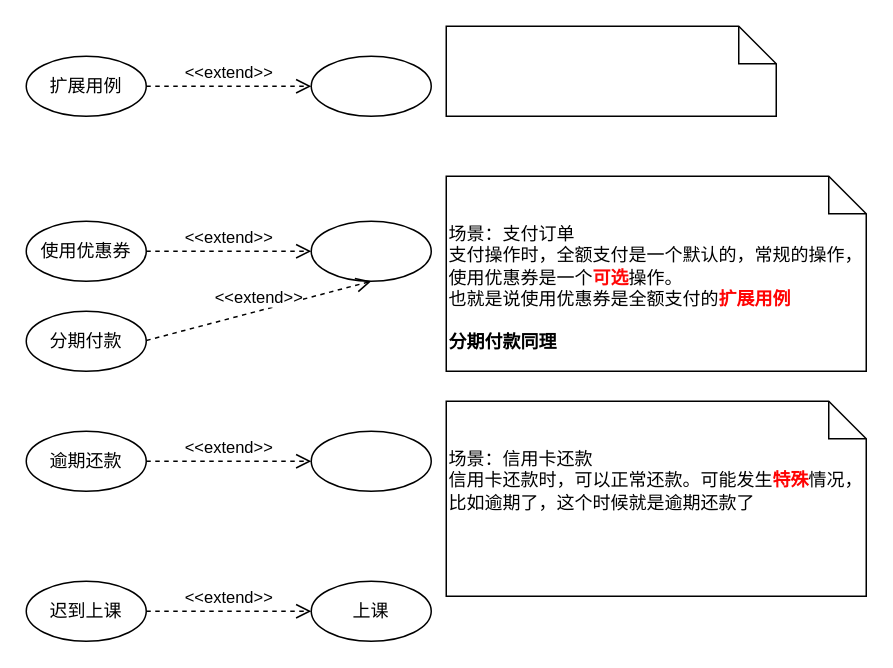
Some shapes in this 893 by 668 pixel diagram are drawn without their labels. Here are the shapes that lost their labels. From the top down, the box of each, then its label:
(310, 55, 431, 116): 基本用例
(445, 25, 776, 116): 扩展用例是 可选 的或者 特殊 的用例
(310, 220, 431, 281): 支付订单
(310, 430, 431, 491): 信用卡还款
